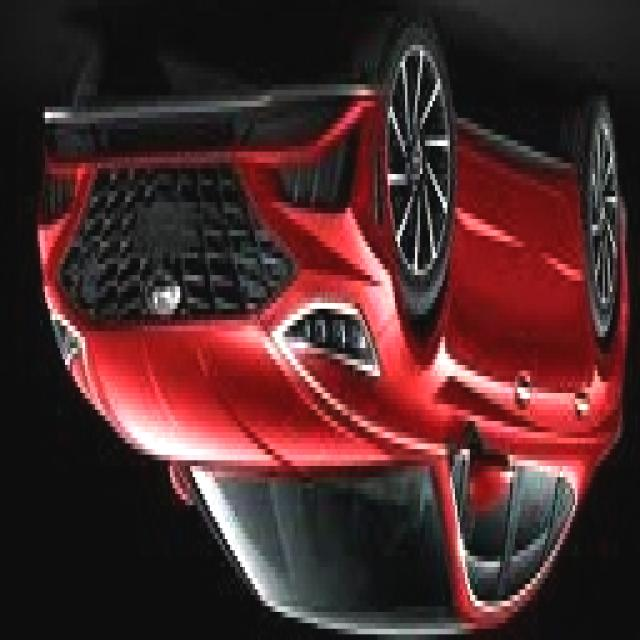red: (42, 42, 620, 633)
